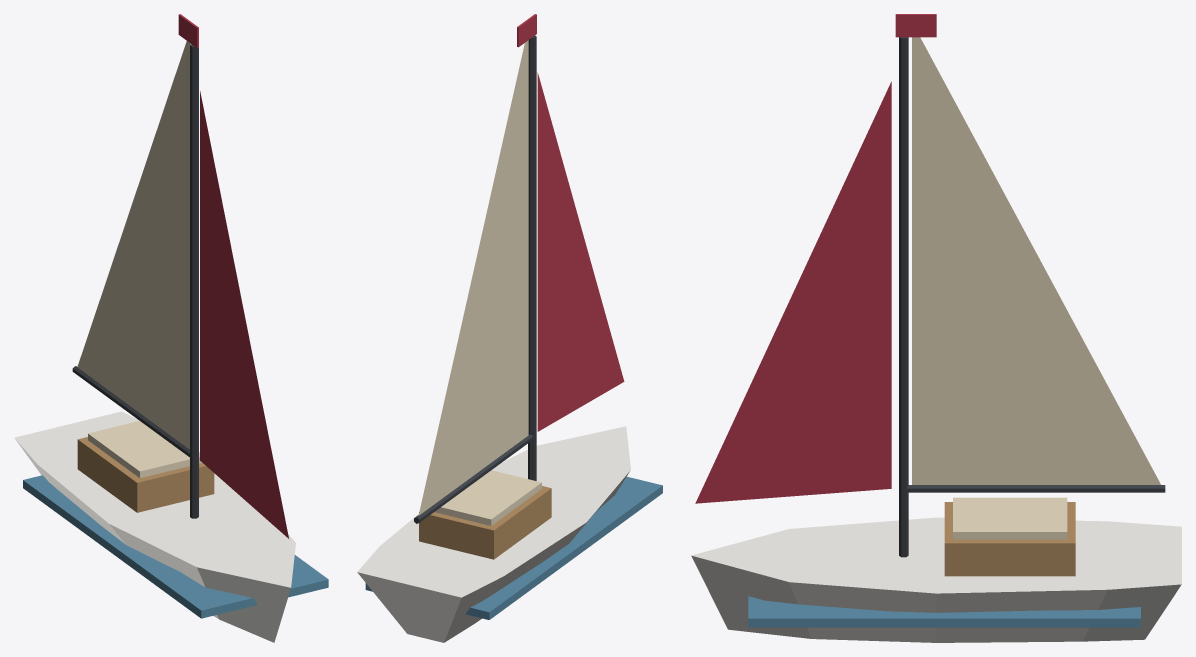
File: sailboat.glb
The picture shows the model from 3 angles, left to right: view 1: azimuth 30°, elevation 25°; view 2: azimuth 150°, elevation 25°; view 3: azimuth 270°, elevation 25°; orthographic projection. The views are drawn at different scales.
Parts seen in each view (by area): view 1: sailboat; view 2: sailboat; view 3: sailboat.
Part boxes in pixels (<box>): sailboat: <box>14,14,328,642</box>; sailboat: <box>357,14,662,642</box>; sailboat: <box>691,14,1181,642</box>.
Bounding box in the file's own units: 2.2 × 8.3 × 6.
